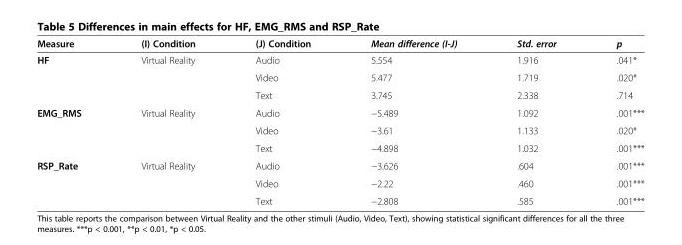table: (36, 37, 643, 206)
table column: (340, 37, 486, 206), (224, 37, 340, 206), (110, 37, 224, 206), (486, 37, 585, 206), (36, 37, 110, 206), (585, 37, 643, 206)
table column header: (36, 37, 643, 51)
table row: (36, 68, 643, 86), (36, 103, 643, 121), (36, 138, 643, 156), (36, 156, 643, 174), (36, 51, 643, 68), (36, 86, 643, 103), (36, 121, 643, 138), (36, 174, 643, 191), (36, 191, 643, 206), (36, 37, 643, 51)
table spanning cell: (36, 103, 110, 156), (36, 51, 110, 103), (36, 156, 110, 206)
